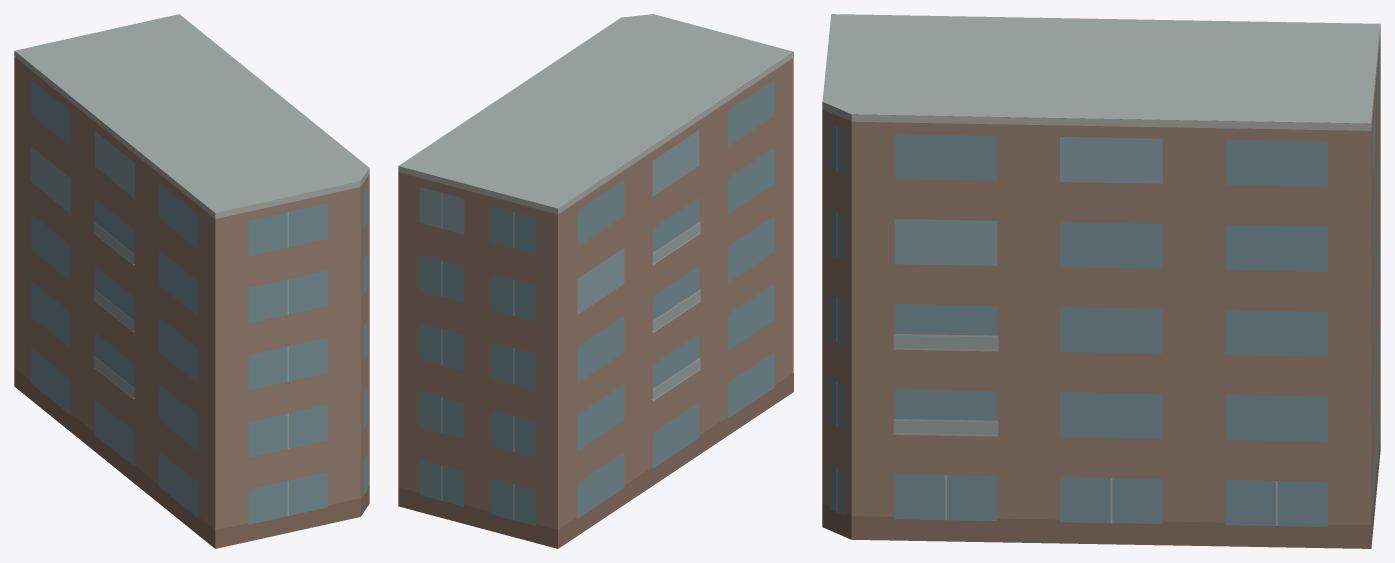
The model's file is survey-upis-32857464.glb.
The picture shows the model from 3 angles, left to right: view 1: azimuth 30°, elevation 25°; view 2: azimuth 150°, elevation 25°; view 3: azimuth 270°, elevation 25°; orthographic projection. The views are drawn at different scales.
Parts seen in each view (by area): view 1: survey-upis-32857464.tmp; view 2: survey-upis-32857464.tmp; view 3: survey-upis-32857464.tmp.
Part boxes in pixels (x1,y1,x2,y2): survey-upis-32857464.tmp: [14, 14, 369, 548]; survey-upis-32857464.tmp: [398, 14, 793, 548]; survey-upis-32857464.tmp: [822, 14, 1380, 548].
Size of the model in its own units: 7.74 by 14 by 16.66.
